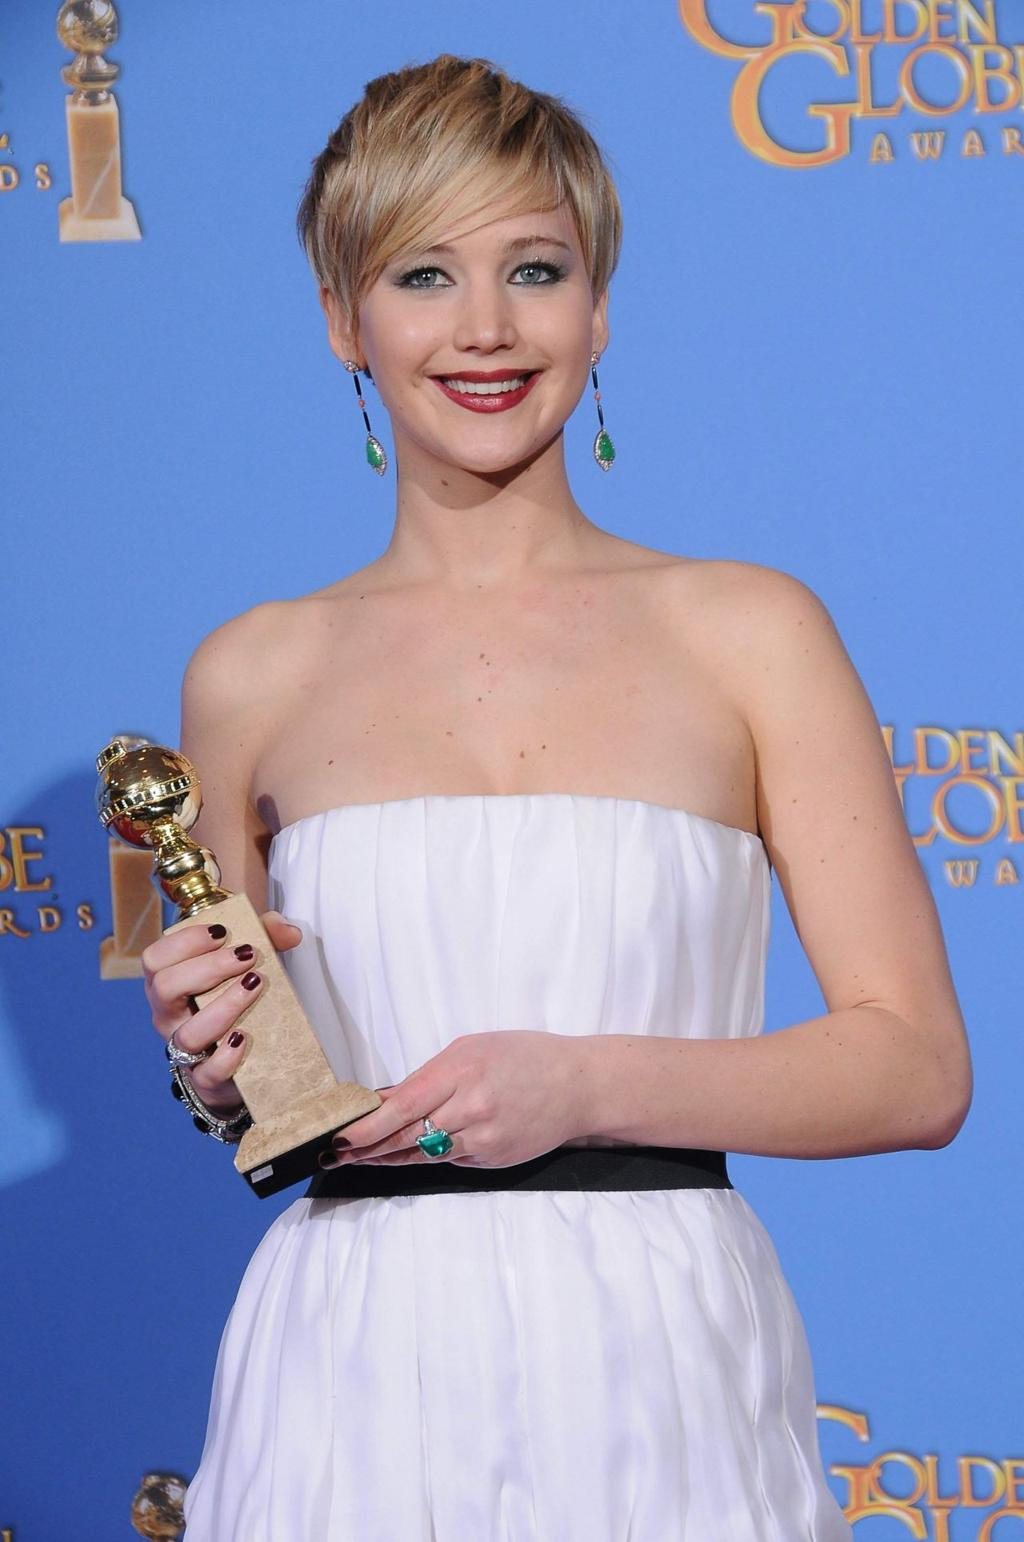face: (358, 120, 593, 478)
